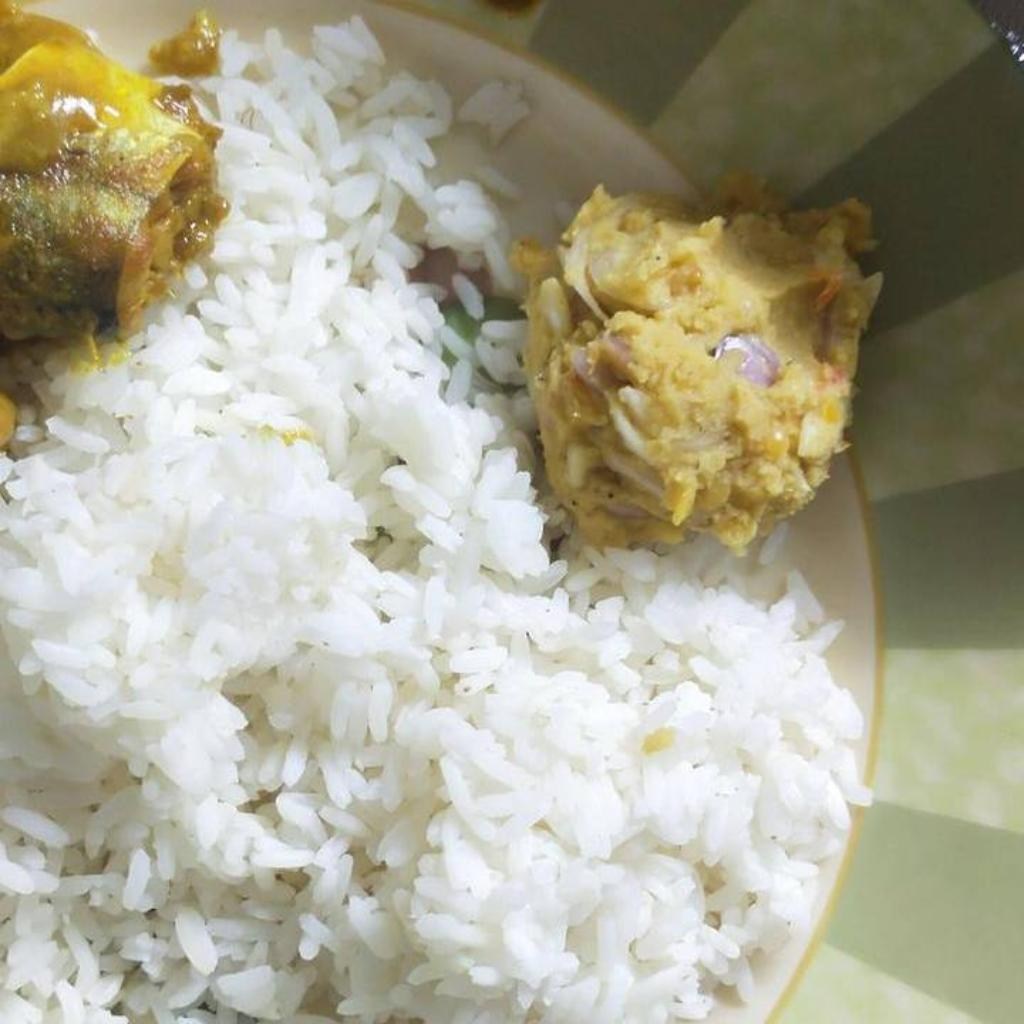fish: (0, 0, 225, 341)
potato-mashed: (513, 183, 880, 550)
ruti: (0, 18, 870, 1023)
